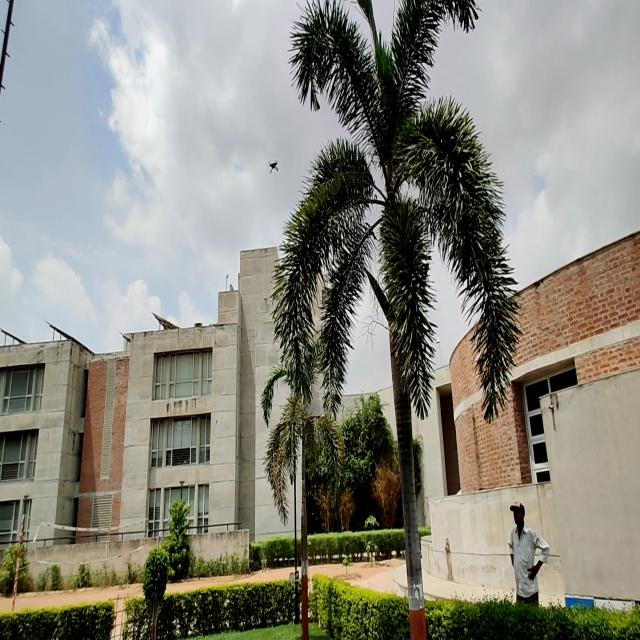drone: (265, 152, 286, 183)
